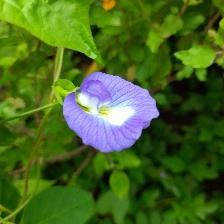shankupushpam: (61, 70, 163, 157)
